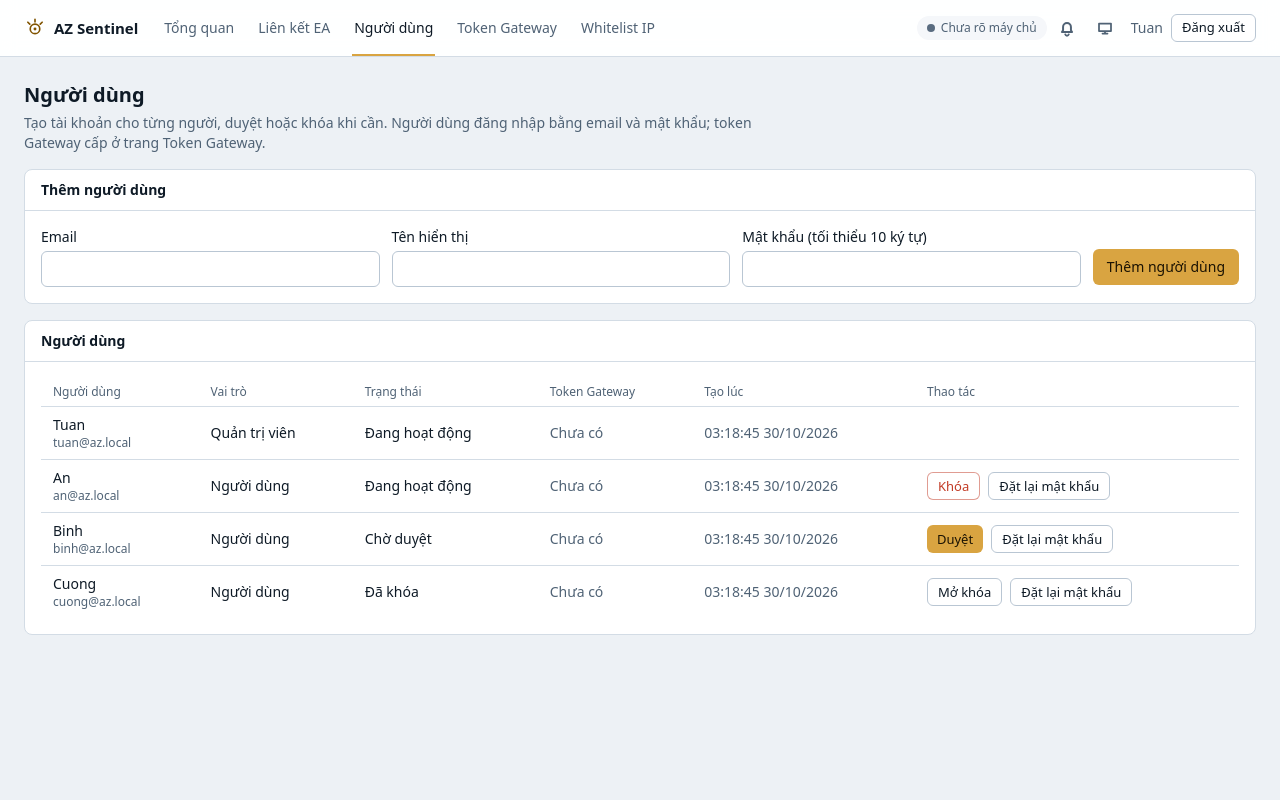
Scenario: trang Người dùng (admin) › đặt lại mật khẩu: kiểm tra độ dài trong hộp thoại rồi gọi PATCH
Expected: the table is shown, [41,378,1239,618]
Click the 1st button "Đặt lại mật khẩu". click: (1049, 486)
box: [988,472,1110,500]
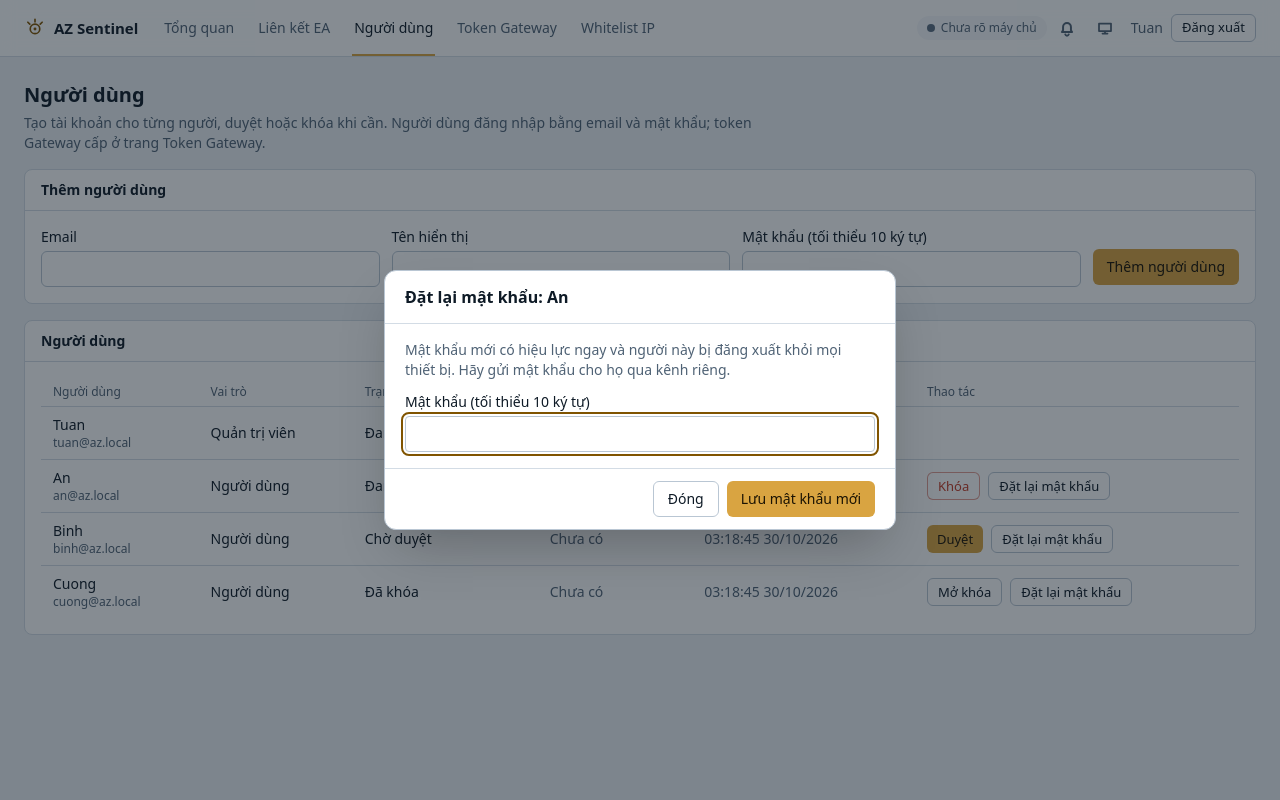
Type "ngan" into the password field labelled "Mật khẩu (tối thiểu 10 ký tự)". click: (640, 434)
box: [405,416,875,452]
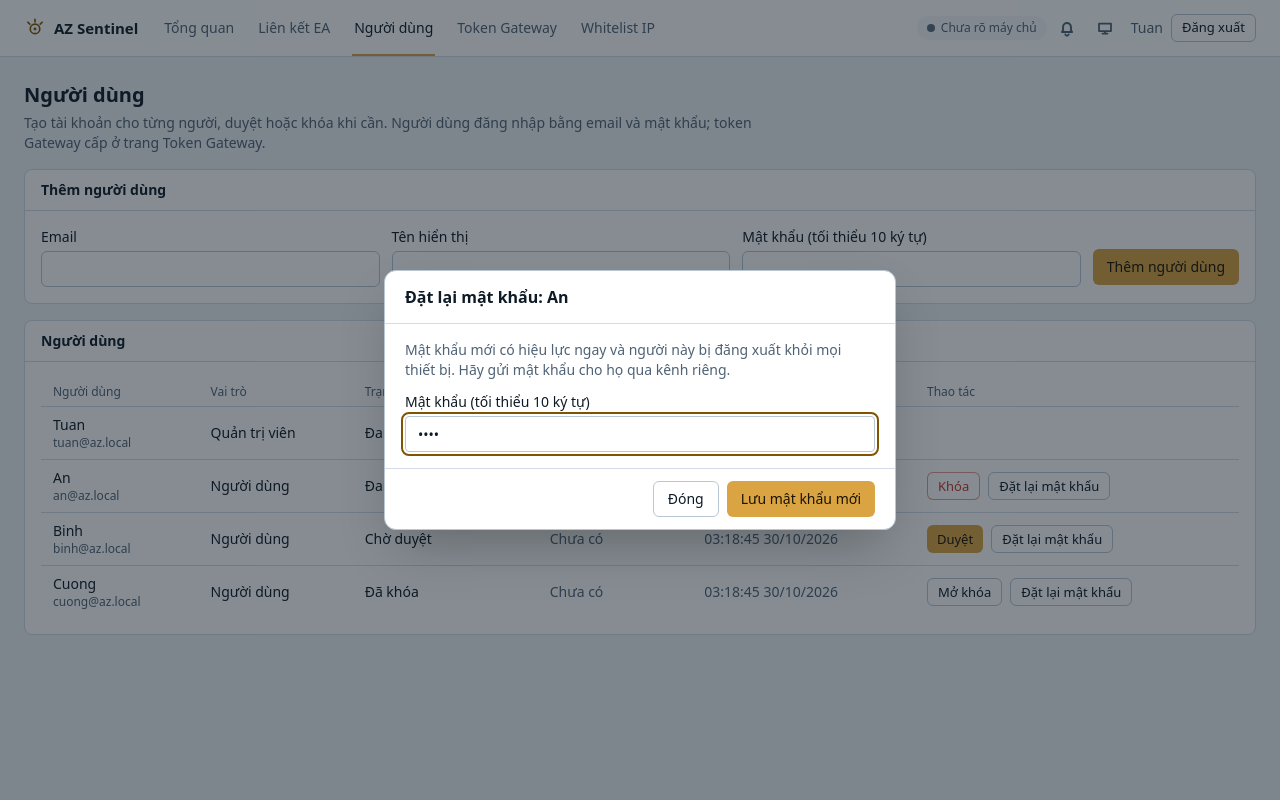
Click the button "Lưu mật khẩu mới". click: (801, 499)
box: [727,481,875,517]
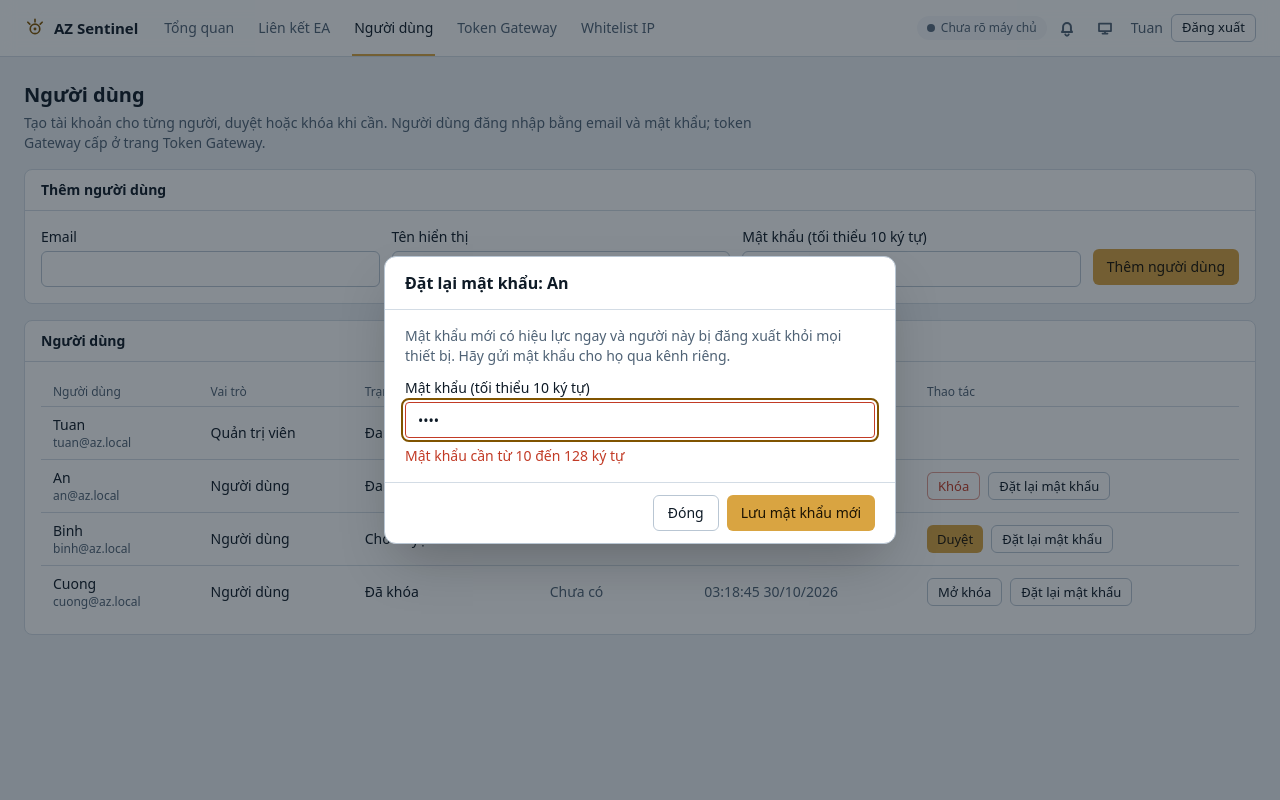
Expected: the text "Mật khẩu cần từ 10 đến 128 ký tự" is shown, [405,446,624,465]
Type "mat-khau-moi-456" into the password field labelled "Mật khẩu (tối thiểu 10 ký tự)". click: (640, 420)
box: [405,402,875,438]
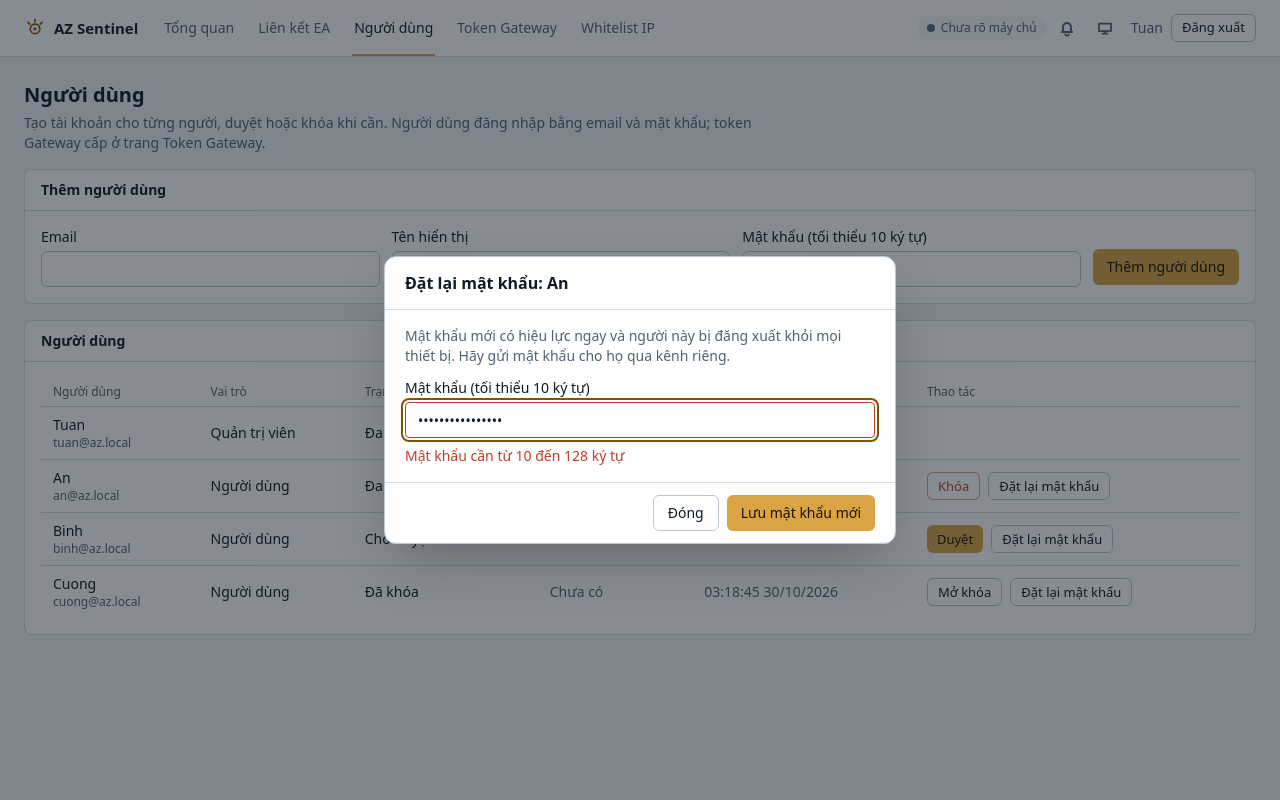
Click the button "Lưu mật khẩu mới". click: (801, 513)
box: [727,495,875,531]
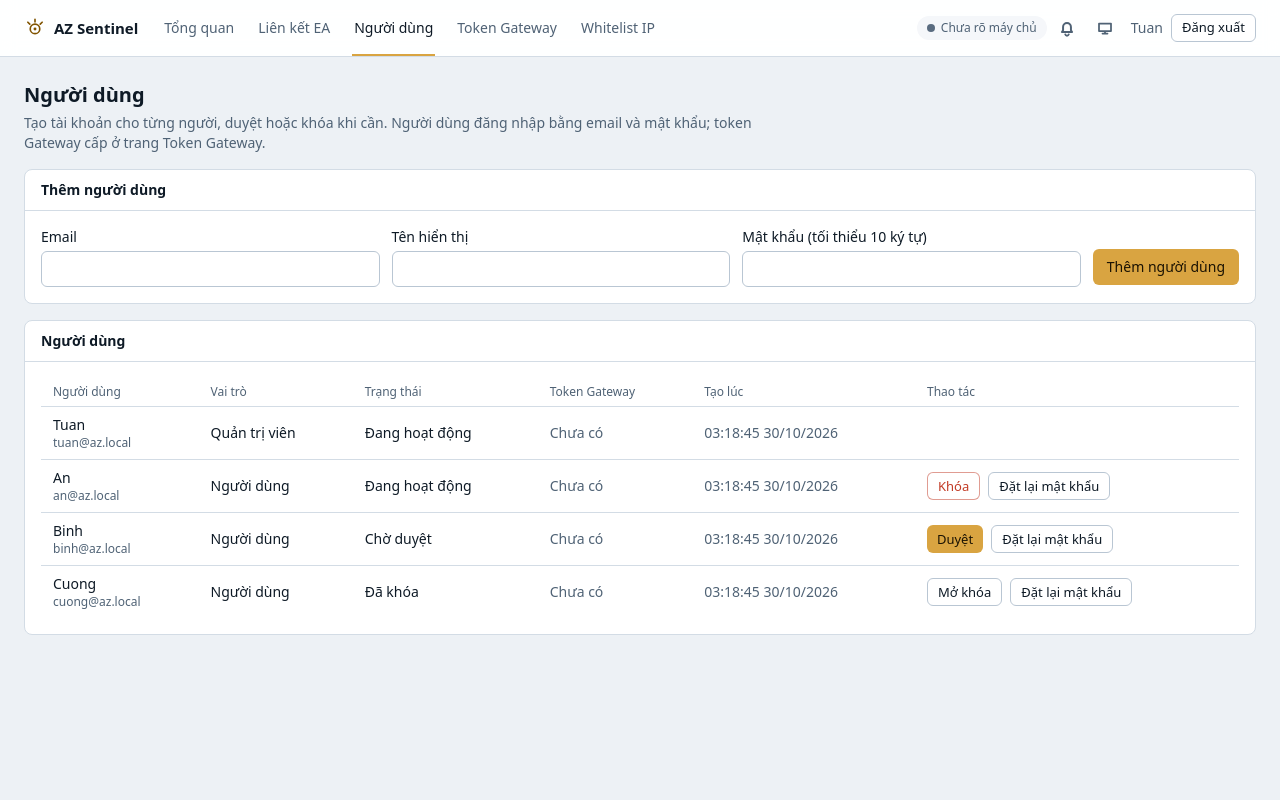
Expected: the dialog is gone
